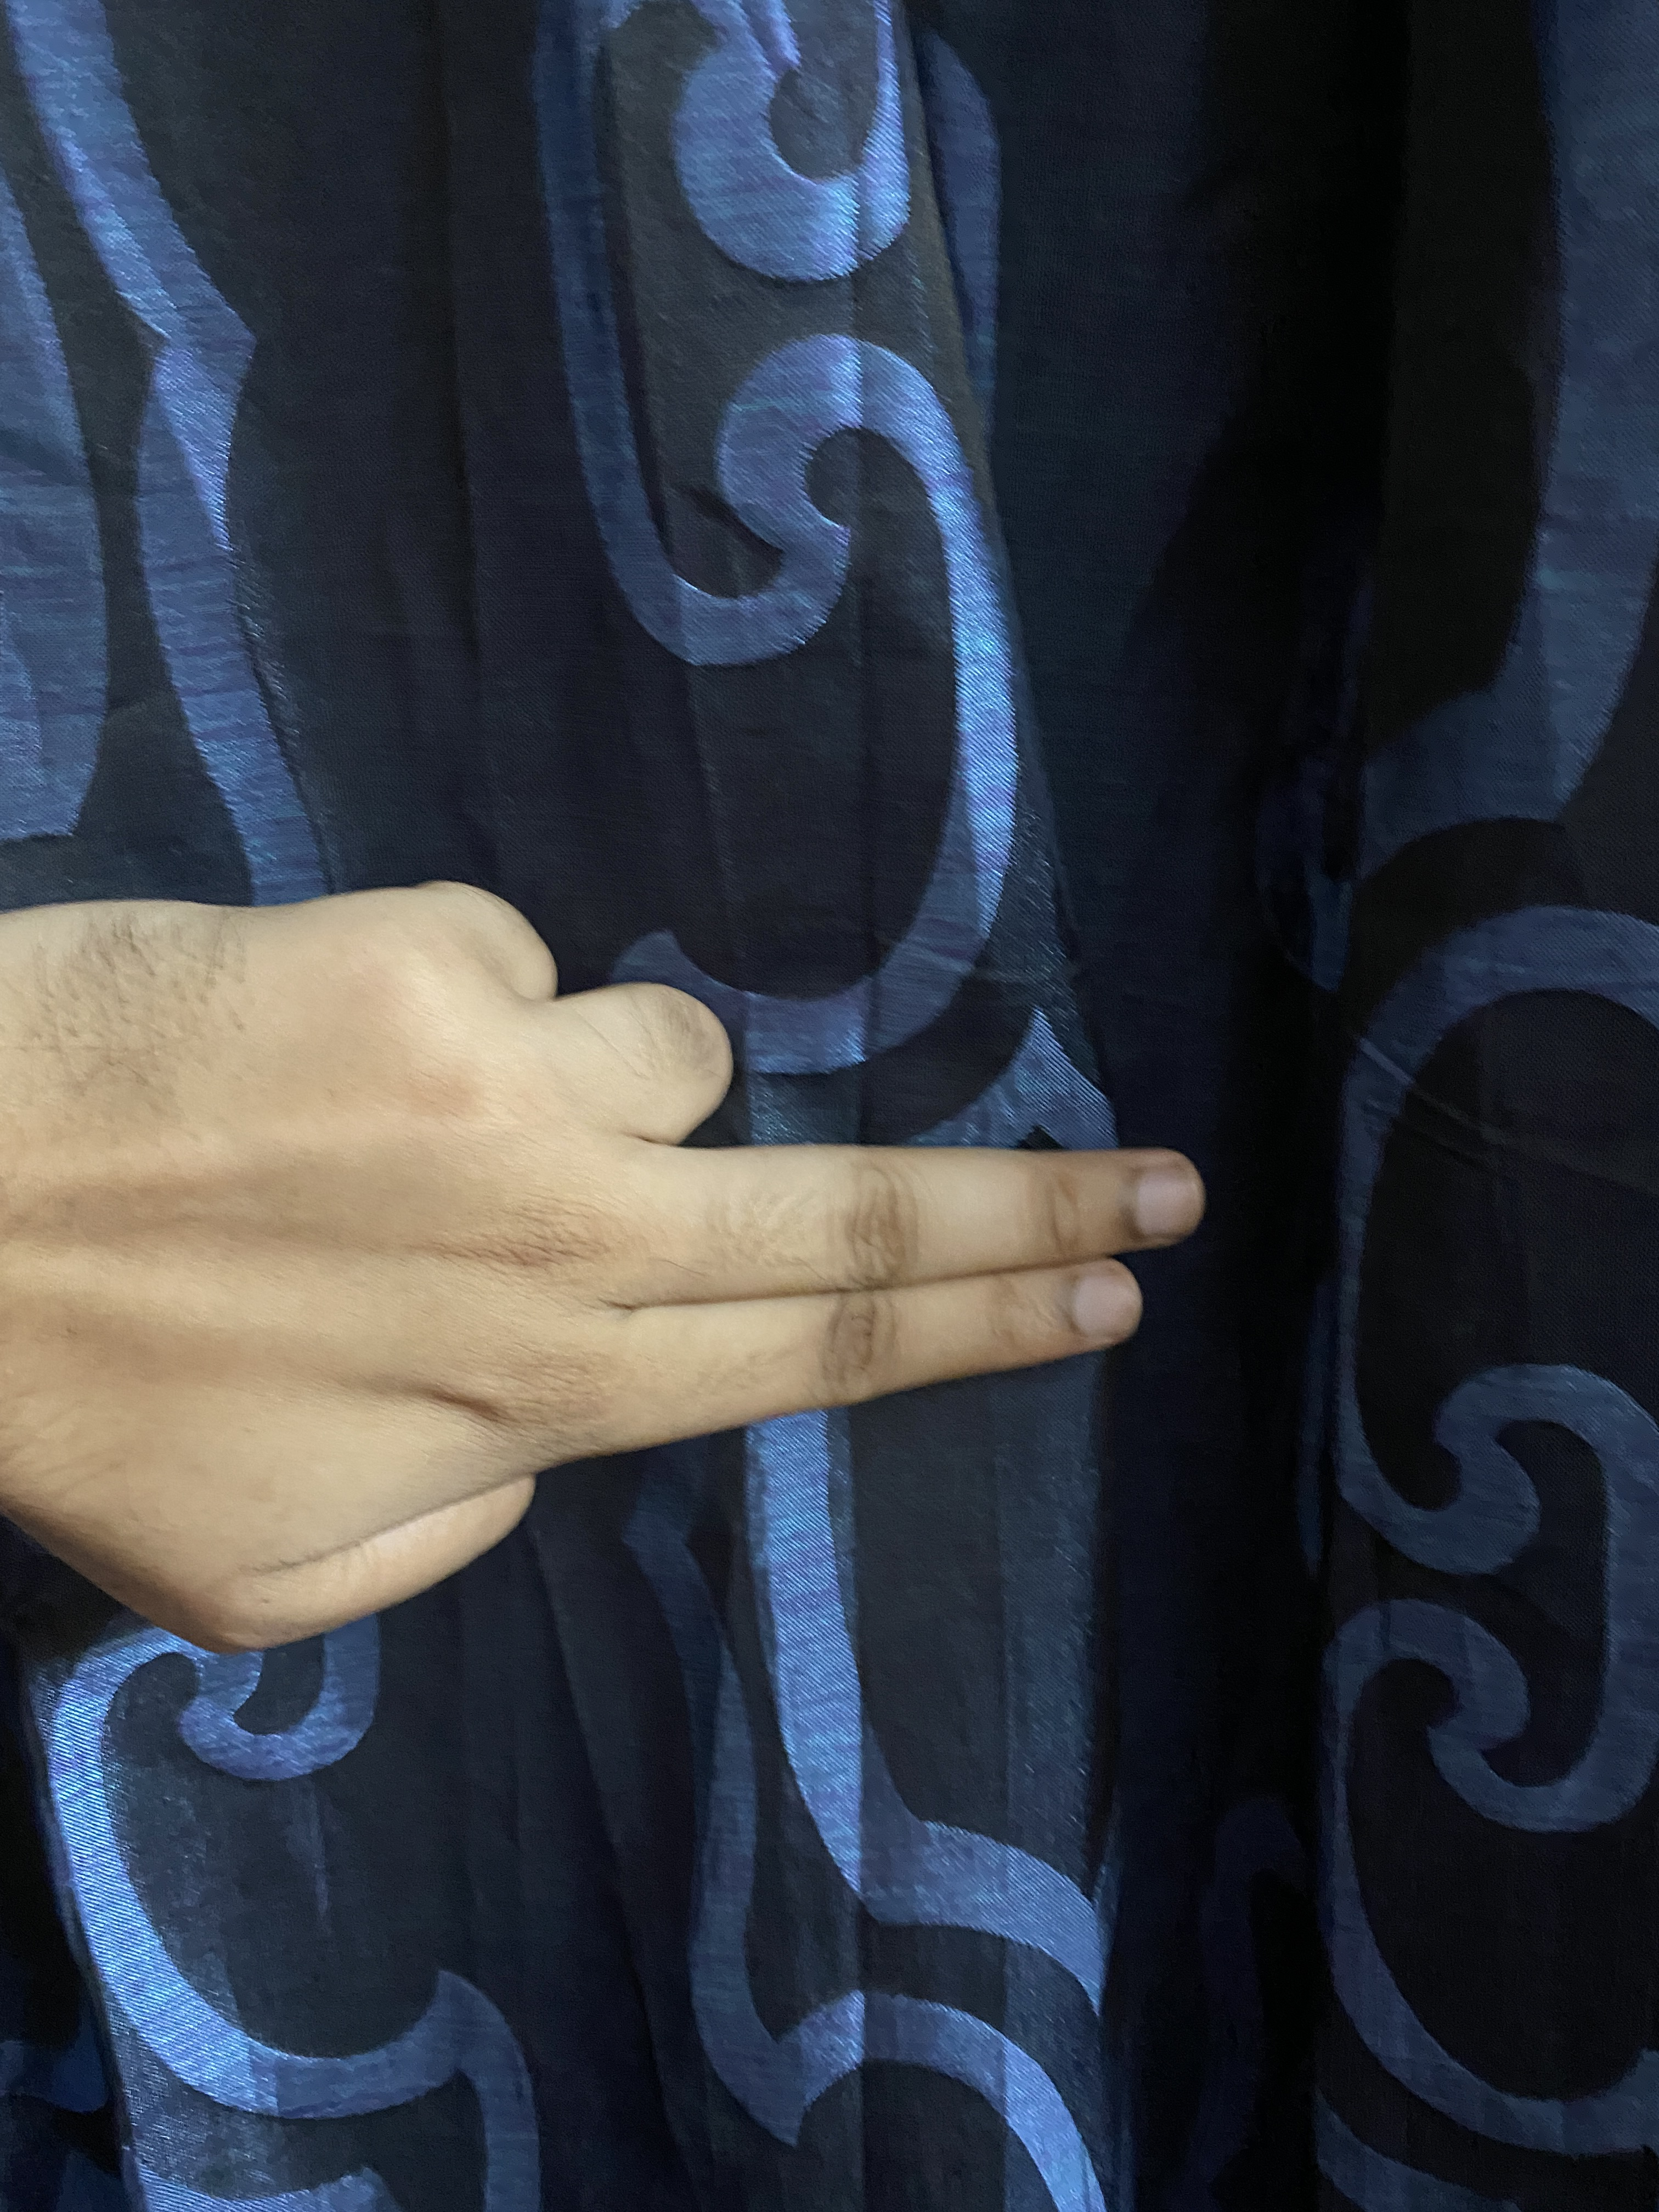left: (2, 850, 1253, 1689)
